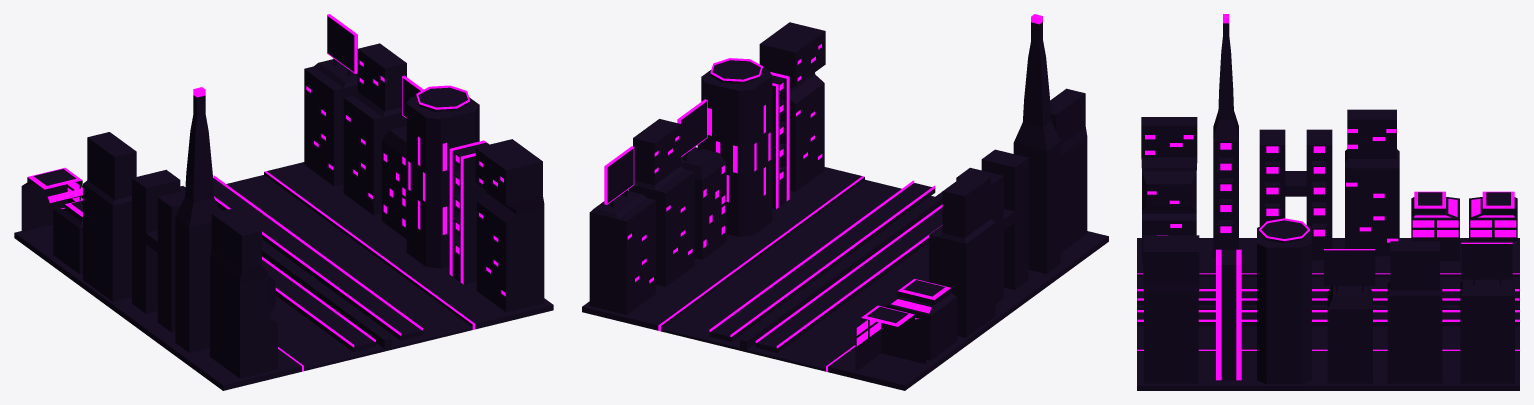
File: BackgroundTile.fbx
3 views of the same model, side by side, from view 1: azimuth 30°, elevation 25°; view 2: azimuth 150°, elevation 25°; view 3: azimuth 270°, elevation 25° (orthographic). The views are drawn at different scales.
Visible parts, largest first — view 1: BackgroundTile; view 2: BackgroundTile; view 3: BackgroundTile.
Part boxes in pixels (left/top/right/bottom): BackgroundTile: left=14, top=14, right=553, bottom=390; BackgroundTile: left=582, top=14, right=1108, bottom=390; BackgroundTile: left=1137, top=14, right=1519, bottom=390.
Size of the model in its own units: 2745 by 2064 by 3003.
